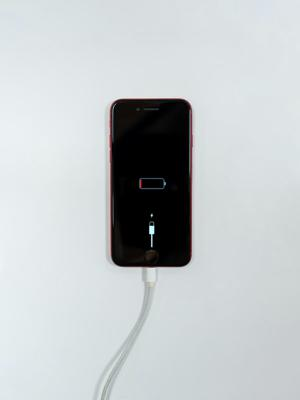cell-phone: (109, 96, 195, 271)
